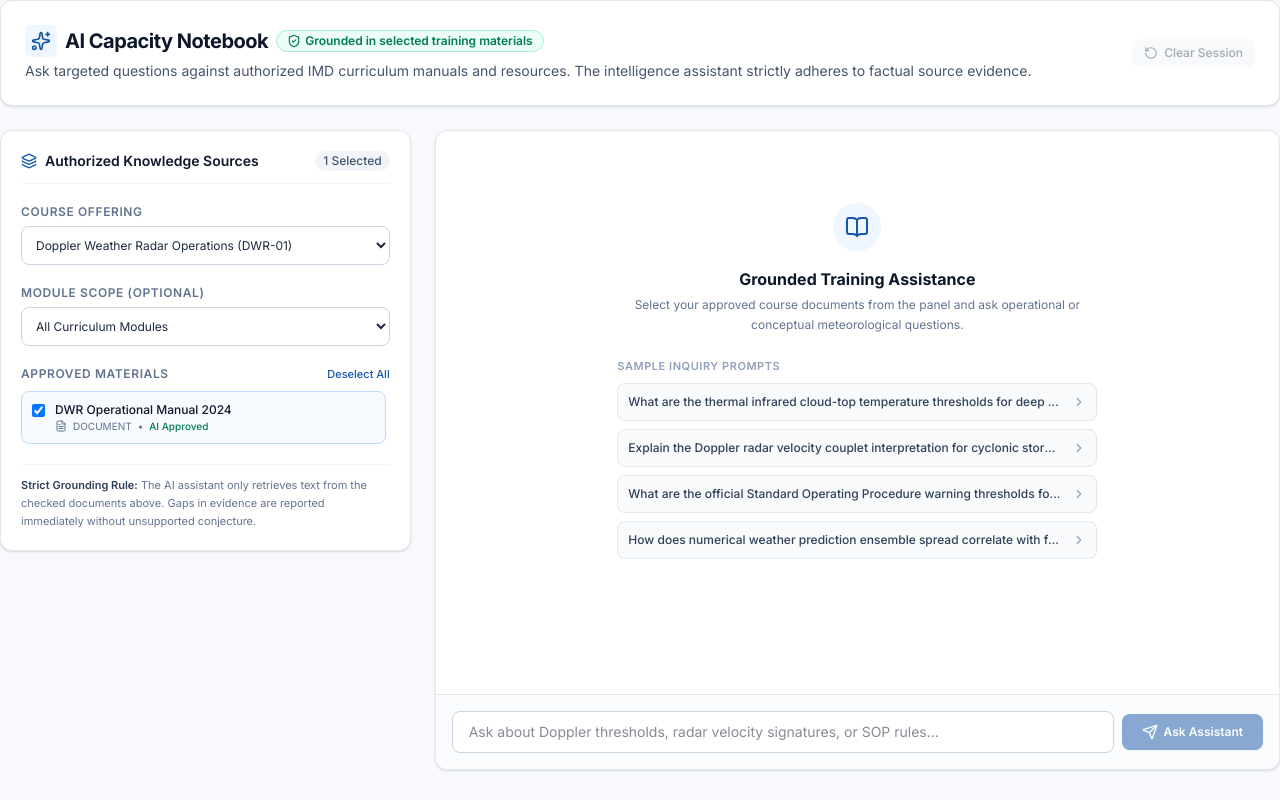
Test: Phase 7: Grounded AI Intelligence Layer - Frontend Suite › FLOW 1: Trainee AI Notebook submits question, retrieves grounded answer, and displays citations
The width and height of the screenshot is (1280, 800).
Expected: the heading "AI Capacity Notebook" is shown, [65, 27, 268, 55]
Expected: the text "Grounded in selected training materials" is shown, [276, 30, 544, 52]
Note: Input question and submit
Replace the text in the field with placeholder "Ask about Doppler thresholds" with "What does a hook echo indicate?": coordinates (783, 732) [452, 711, 1114, 753]
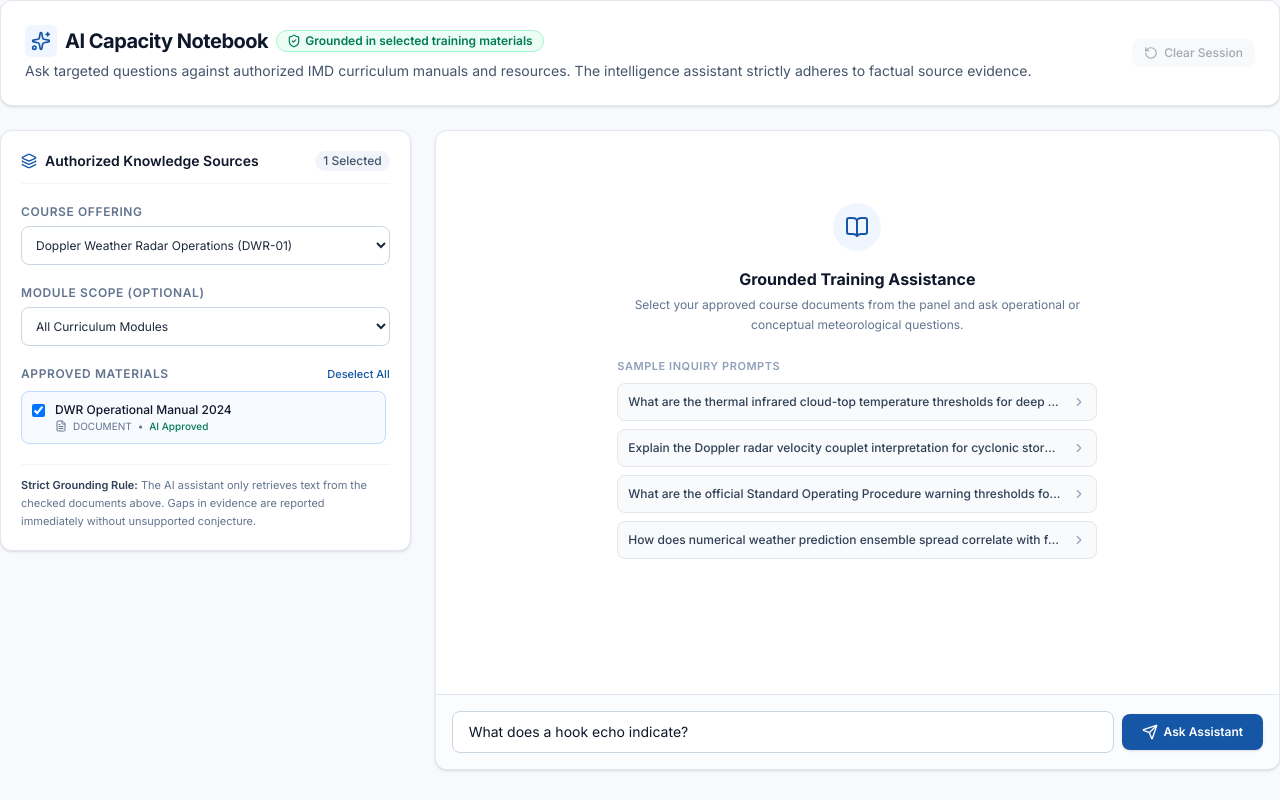
Submit the form with placeholder "Ask about Doppler thresholds", box [452, 711, 1263, 753]
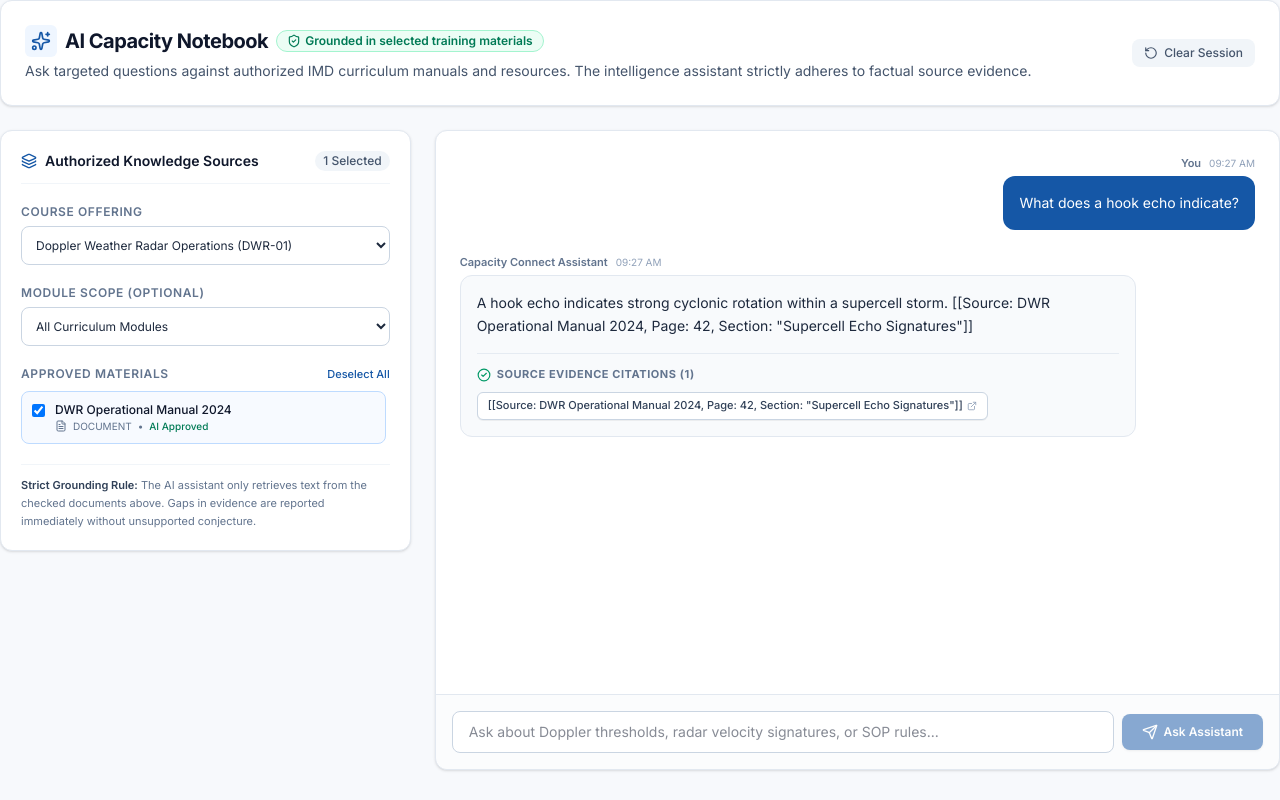
Result: the text "A hook echo indicates strong cyclonic rotation" is shown at [477, 294, 1054, 334]
